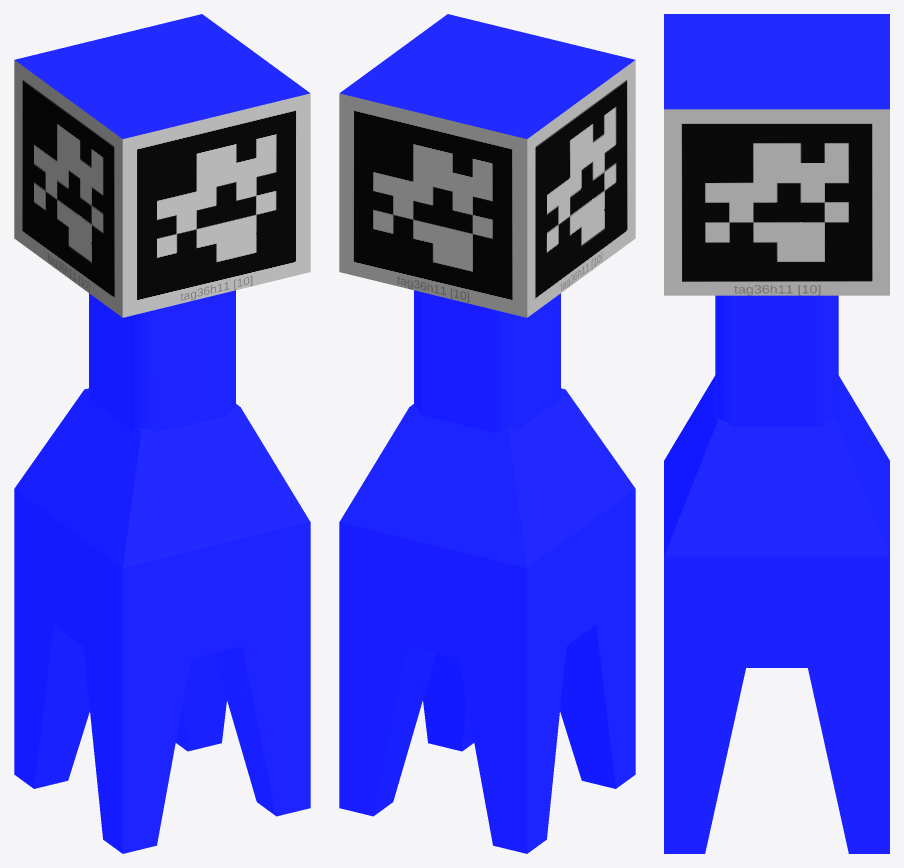
File: Creeper.dae
The picture shows the model from 3 angles, left to right: view 1: azimuth 30°, elevation 25°; view 2: azimuth 150°, elevation 25°; view 3: azimuth 270°, elevation 25°; orthographic projection. The views are drawn at different scales.
Visible parts, largest first — view 1: NovoCreeperV3 v1; view 2: NovoCreeperV3 v1; view 3: NovoCreeperV3 v1.
Part boxes in pixels (box(x1,y1,x2,y2)): NovoCreeperV3 v1: box(14, 14, 310, 853); NovoCreeperV3 v1: box(339, 14, 635, 853); NovoCreeperV3 v1: box(664, 14, 889, 853).
Size of the model in its own units: 5.5 by 5.5 by 20.
Materials: 2 (1 with a texture image).
